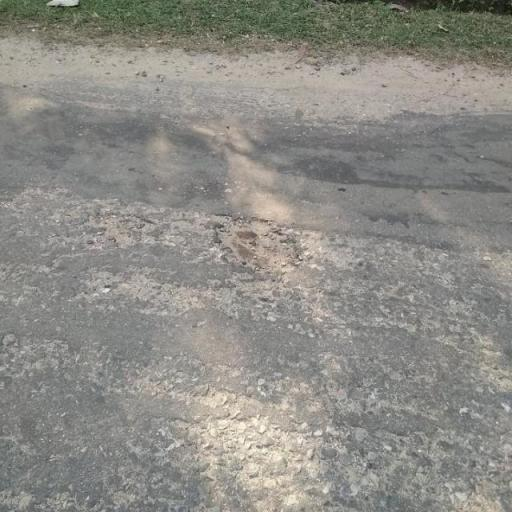pothole: (106, 110, 324, 348)
